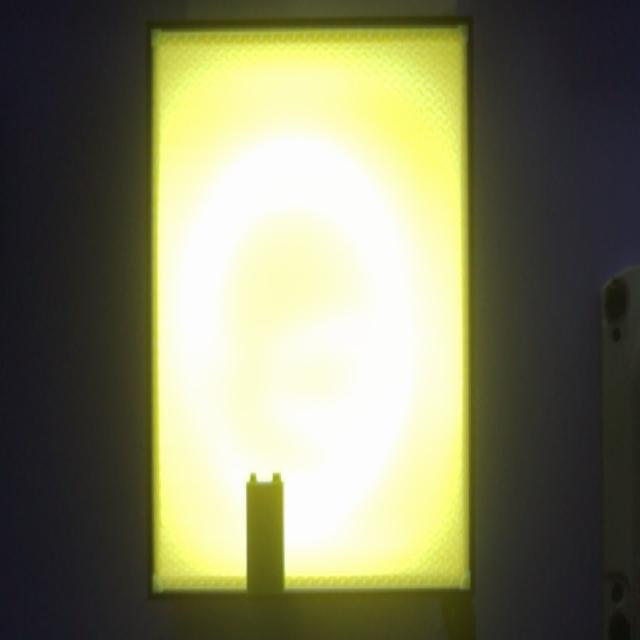bateria: (245, 474, 285, 595)
mesa: (146, 16, 476, 600)
